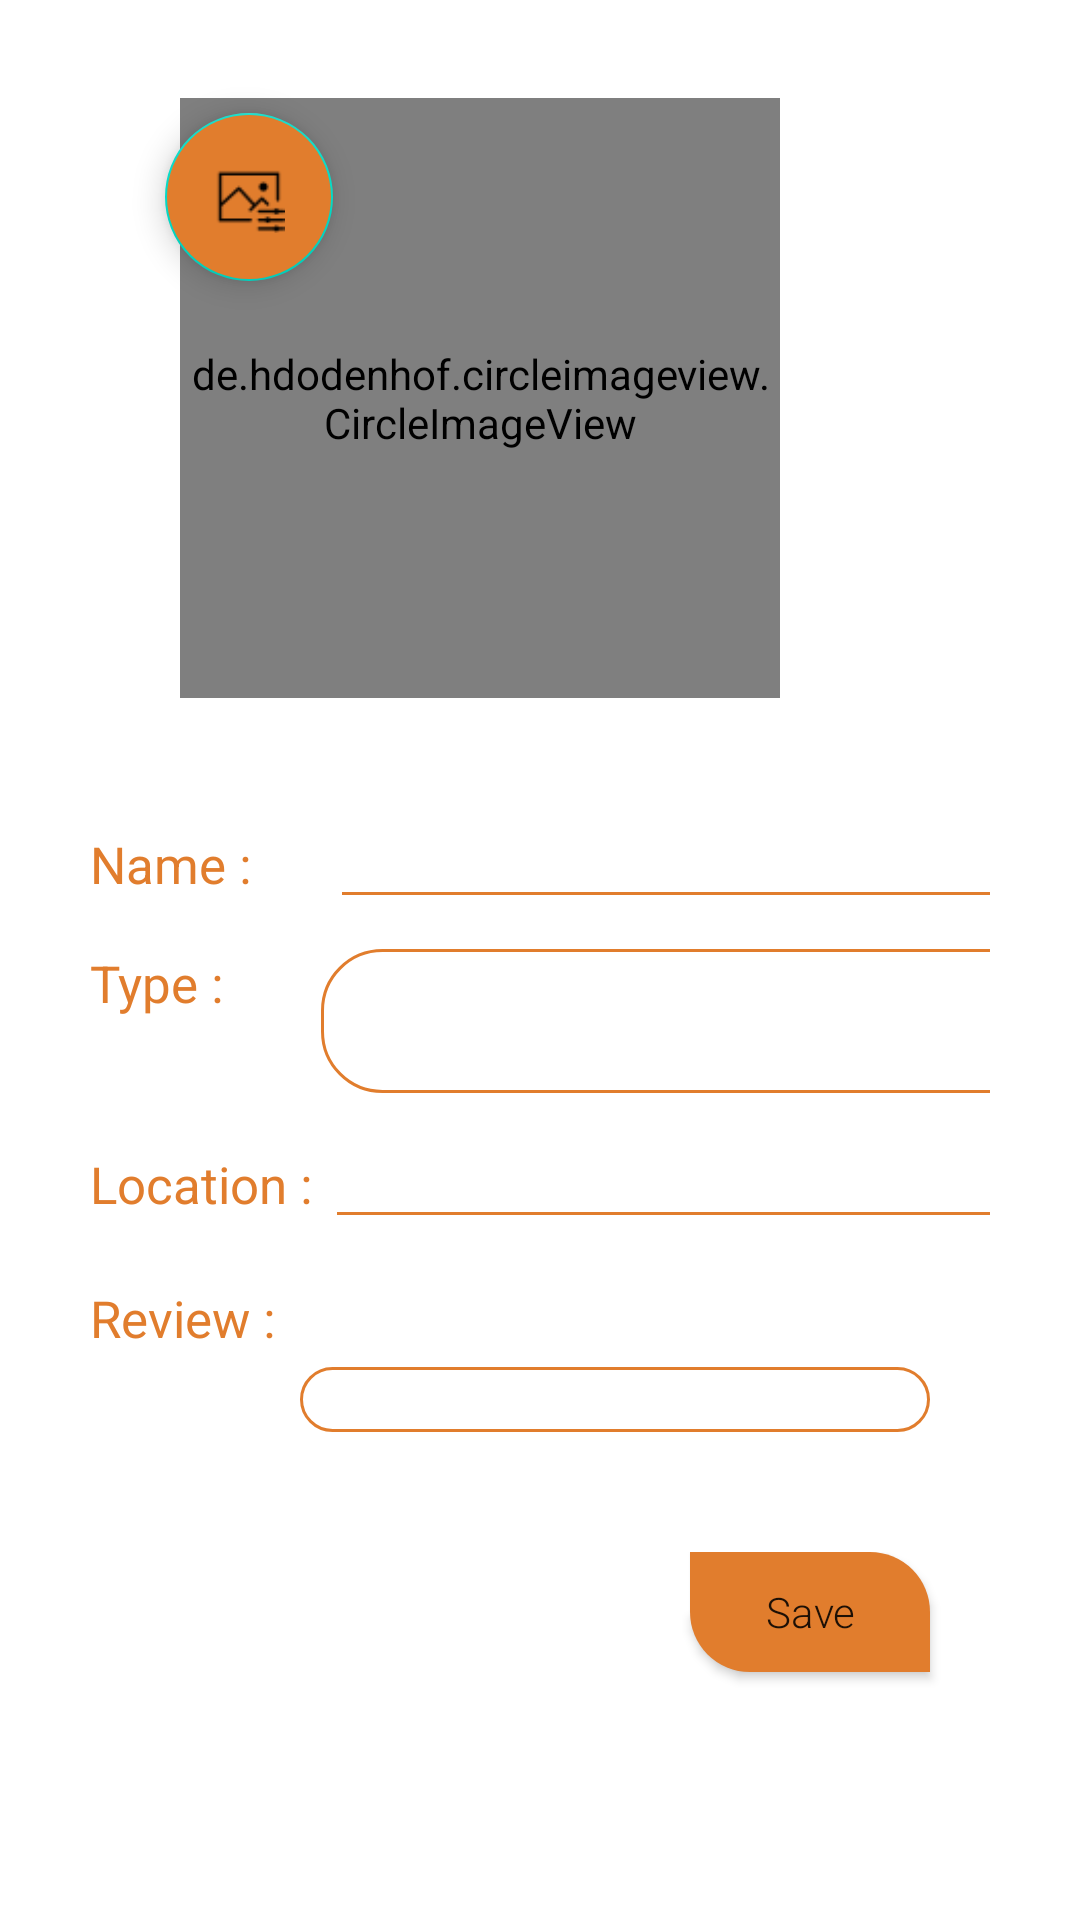

Where icons sit on this 1080px×1920px app screen, as (x1, y1, x2, y2):
photoeditb: (165, 113, 333, 281)
